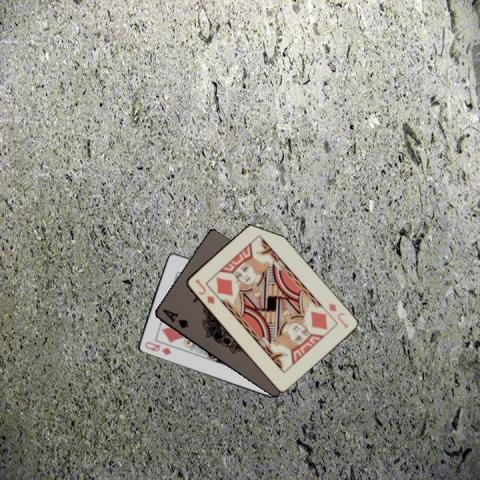As: (159, 306, 190, 330)
Jd: (191, 276, 216, 305), (326, 300, 350, 330)
Qd: (141, 338, 173, 357)
